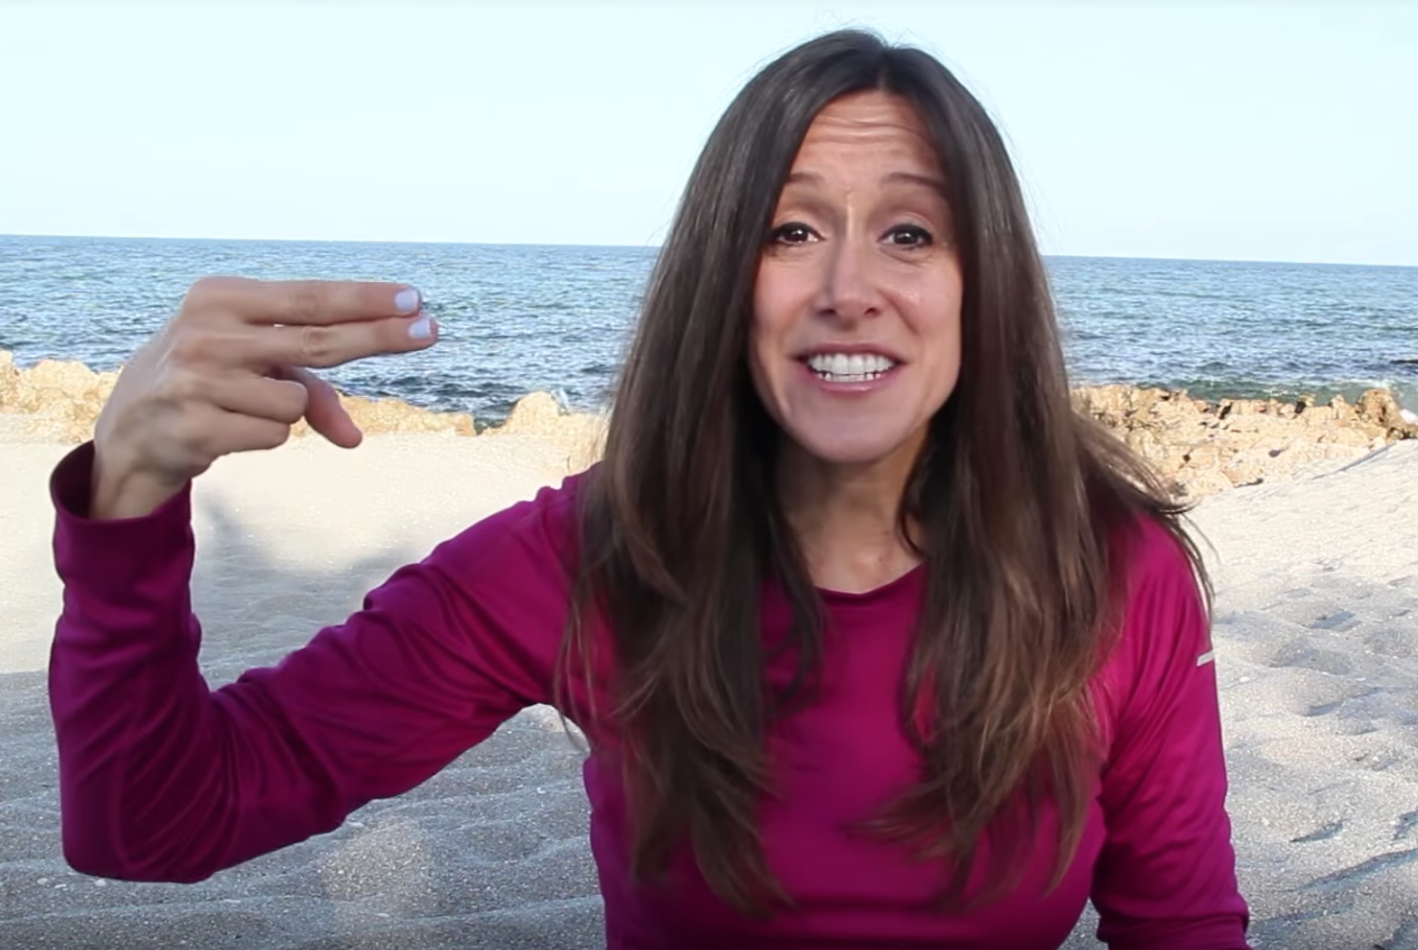h: (57, 269, 430, 517)
